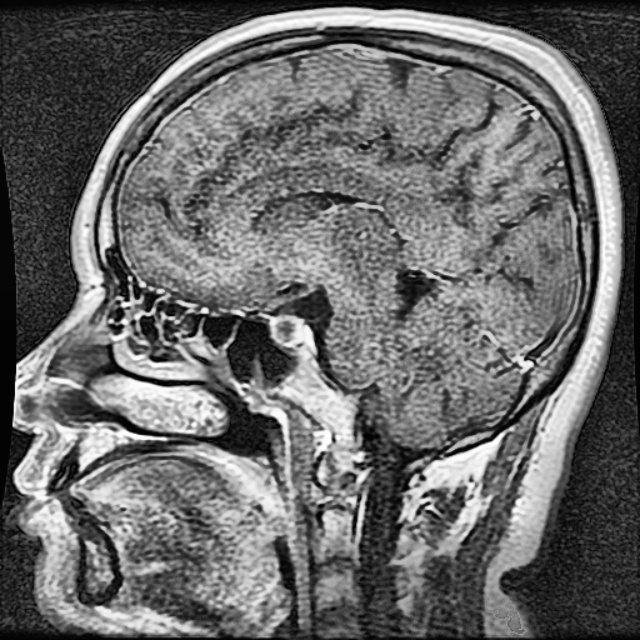Pituitary: (267, 314, 314, 349)
